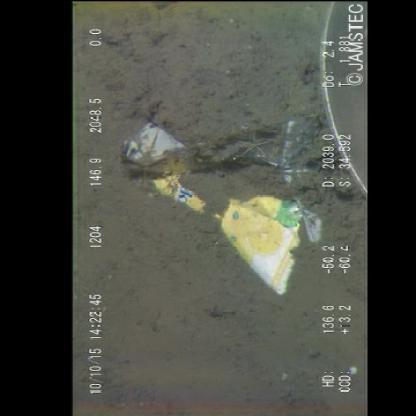Rác: (120, 106, 324, 296)
